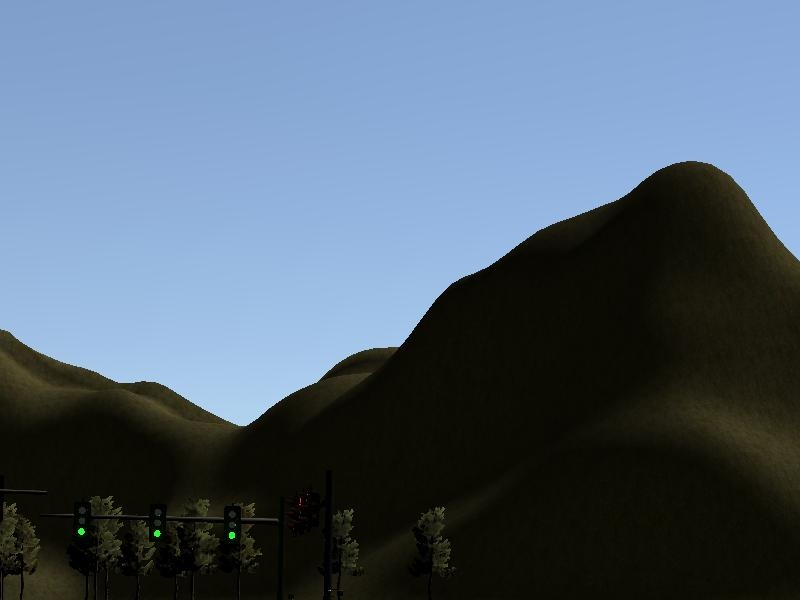GREEN: (70, 495, 91, 543), (145, 498, 168, 541), (222, 504, 244, 547)
